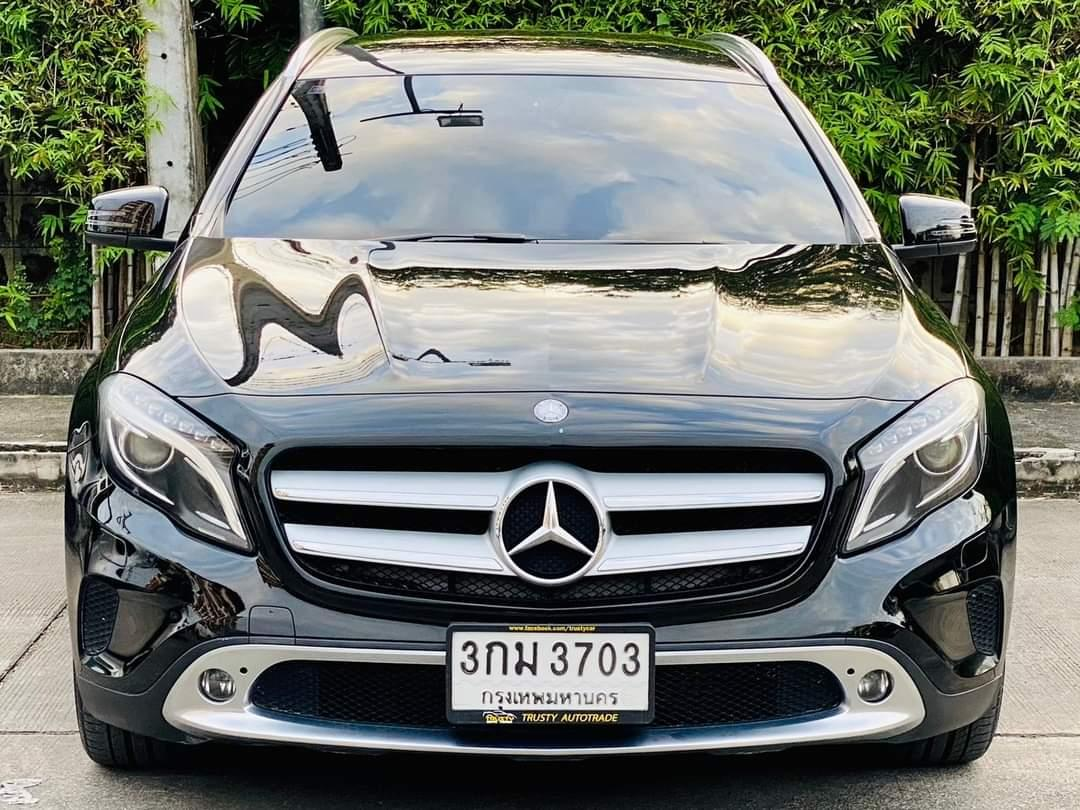license-plate: (443, 618, 658, 728)
